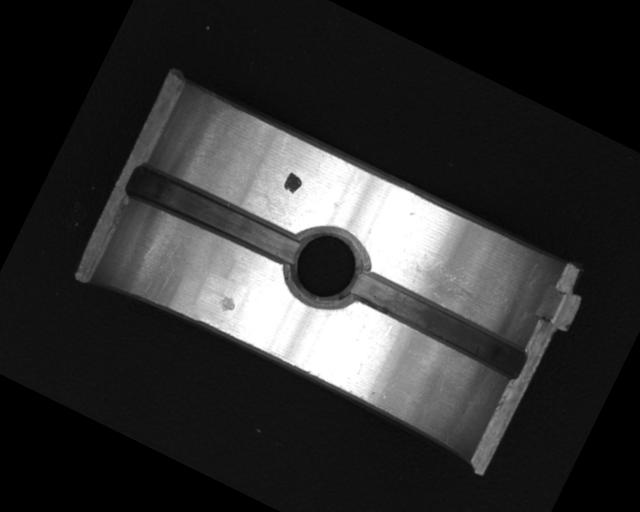blot: (280, 170, 305, 197)
bruise: (216, 292, 238, 314)
gap: (346, 265, 533, 383), (124, 157, 304, 271)
hole: (273, 216, 376, 317)
nick: (355, 320, 392, 379)
scratch: (406, 247, 500, 323)
